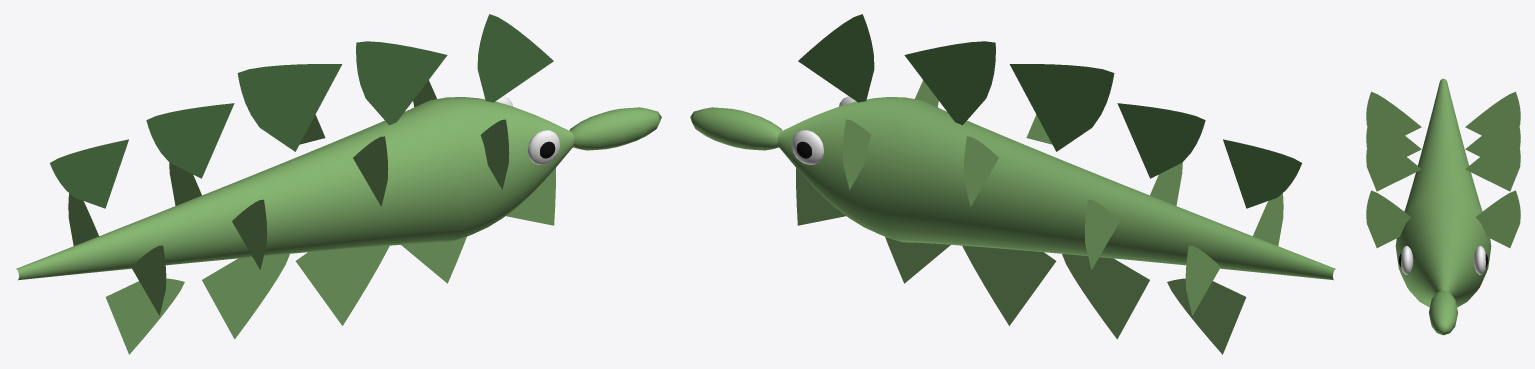
File: sea_dragon.glb
The picture shows the model from 3 angles, left to right: view 1: azimuth 30°, elevation 25°; view 2: azimuth 150°, elevation 25°; view 3: azimuth 270°, elevation 25°; orthographic projection. The views are drawn at different scales.
Visible parts, largest first — view 1: sea_dragon; view 2: sea_dragon; view 3: sea_dragon.
Part boxes in pixels (bbox=[...]): sea_dragon: bbox=[16, 14, 661, 354]; sea_dragon: bbox=[690, 14, 1335, 354]; sea_dragon: bbox=[1366, 78, 1520, 335].
Size of the model in its own units: 1.6 by 0.6642 by 0.4208.
